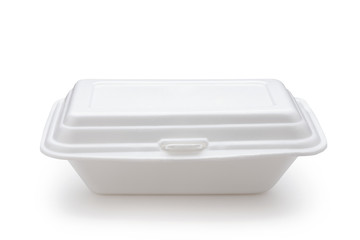styrofoam: (41, 77, 327, 198)
